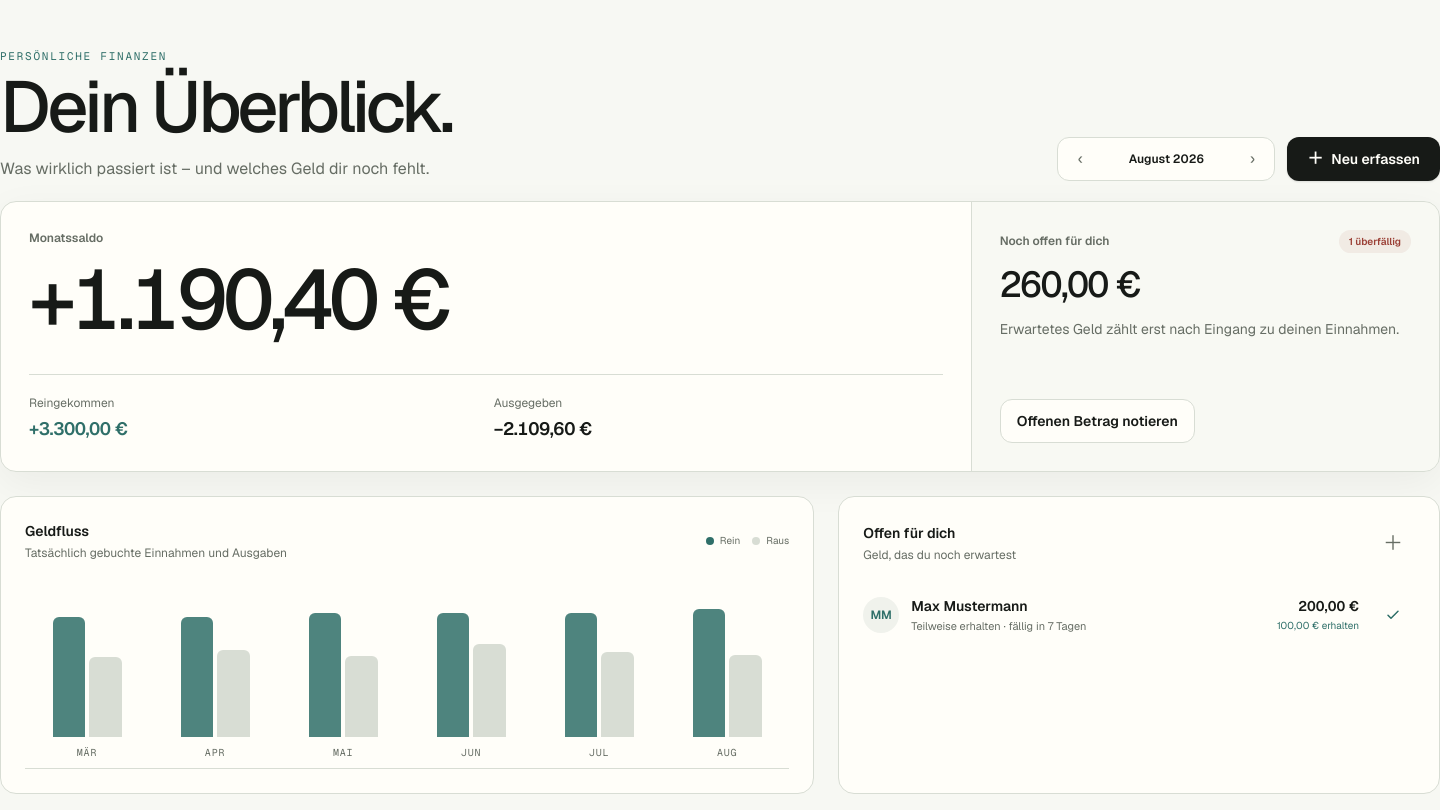
Test case: PersonalDashboard › shows purpose, payment method and history only after opening a receivable
This screenshot has width=1440, height=810.
Click the button with aria-label "Details zu Max Mustermann öffnen": (881, 615) [863,593,1359,637]
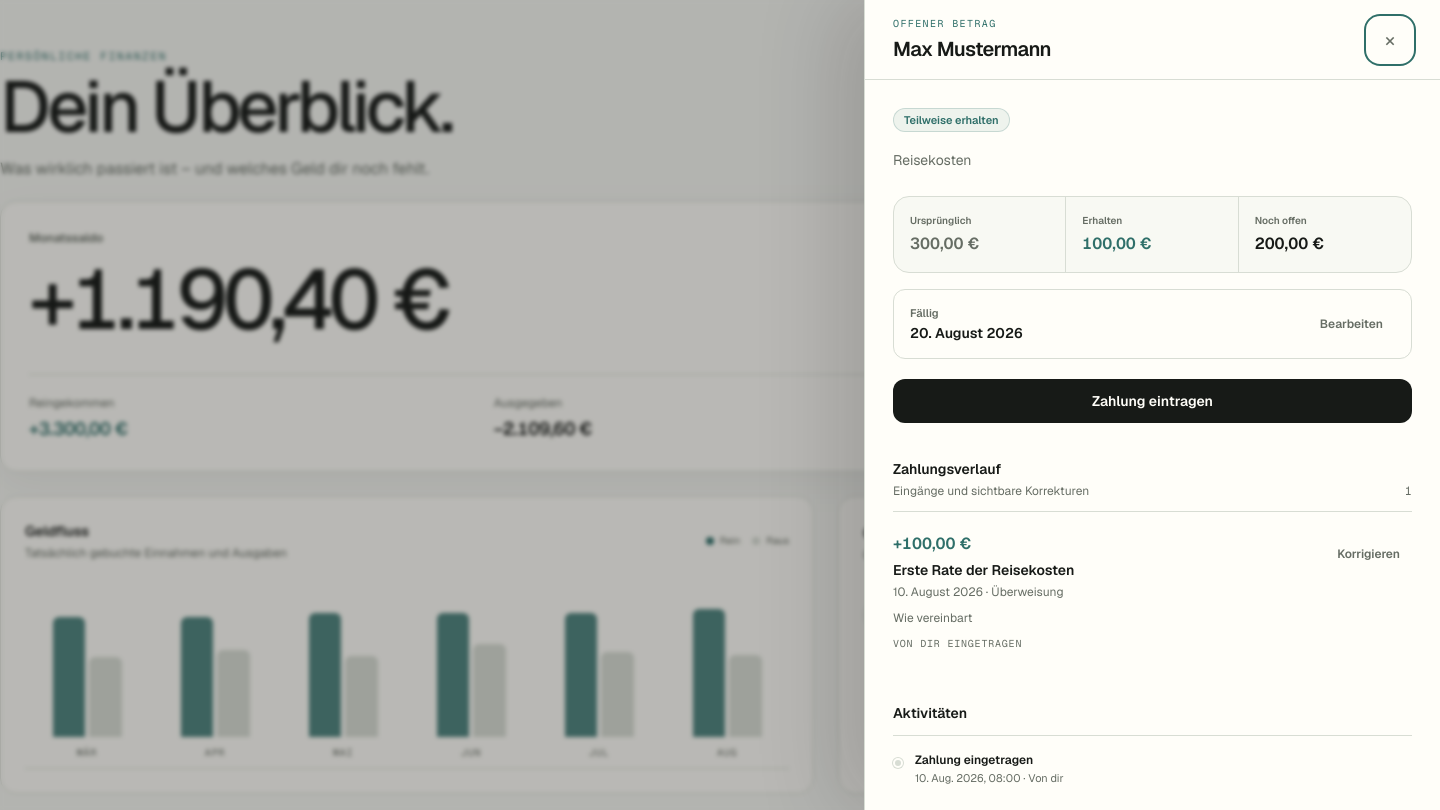
Expected: the heading "Zahlungsverlauf" is shown, [893,460,1001,478]
Expected: the text "Erste Rate der Reisekosten" is shown, [893,560,1074,580]
Expected: the text "10. August 2026 · Überweisung" is shown, [893,584,1074,600]
